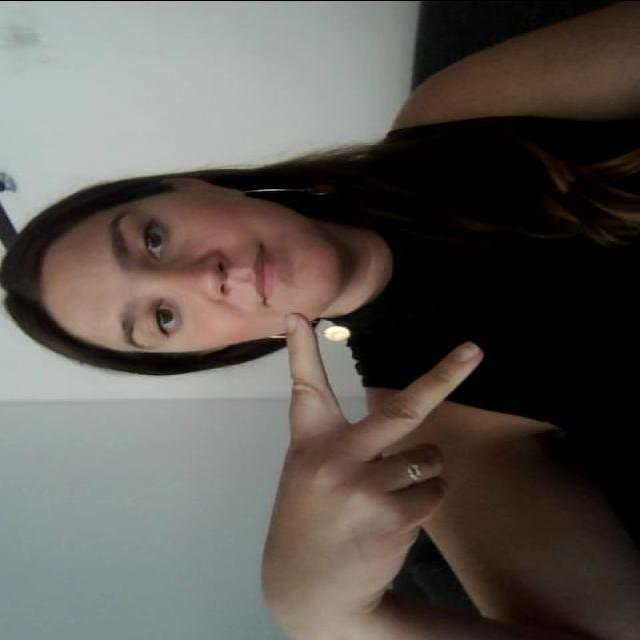Scissors: (236, 312, 502, 623)
